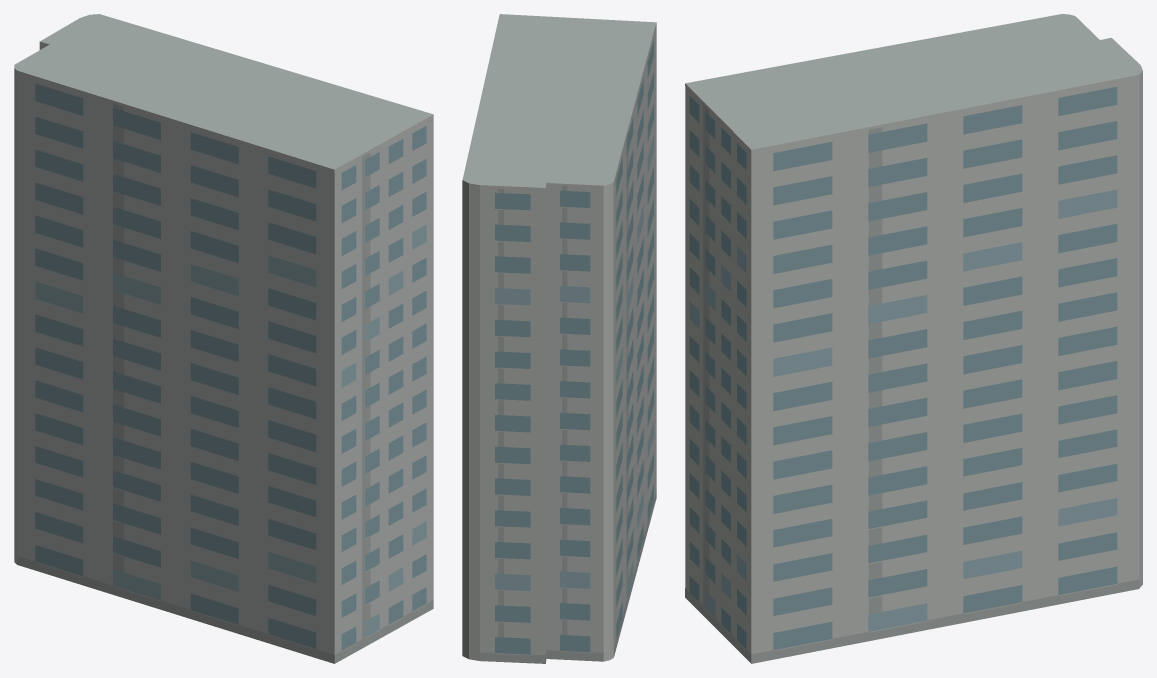
File: residential-65f47a26-64ef-454d-ba7c-e39938aac0dd.glb
The picture shows the model from 3 angles, left to right: view 1: azimuth 30°, elevation 25°; view 2: azimuth 150°, elevation 25°; view 3: azimuth 270°, elevation 25°; orthographic projection. The views are drawn at different scales.
Visible parts, largest first — view 1: residential-65f47a26-64ef-454d-ba7c-e39938aac0dd.tmp; view 2: residential-65f47a26-64ef-454d-ba7c-e39938aac0dd.tmp; view 3: residential-65f47a26-64ef-454d-ba7c-e39938aac0dd.tmp.
Boxes of the visible parts, x1,y1,x2,y2 form: residential-65f47a26-64ef-454d-ba7c-e39938aac0dd.tmp: (14, 14, 433, 663); residential-65f47a26-64ef-454d-ba7c-e39938aac0dd.tmp: (462, 14, 656, 663); residential-65f47a26-64ef-454d-ba7c-e39938aac0dd.tmp: (685, 14, 1142, 663).
Bounding box in the file's own units: 25.92 × 45.75 × 36.92.
